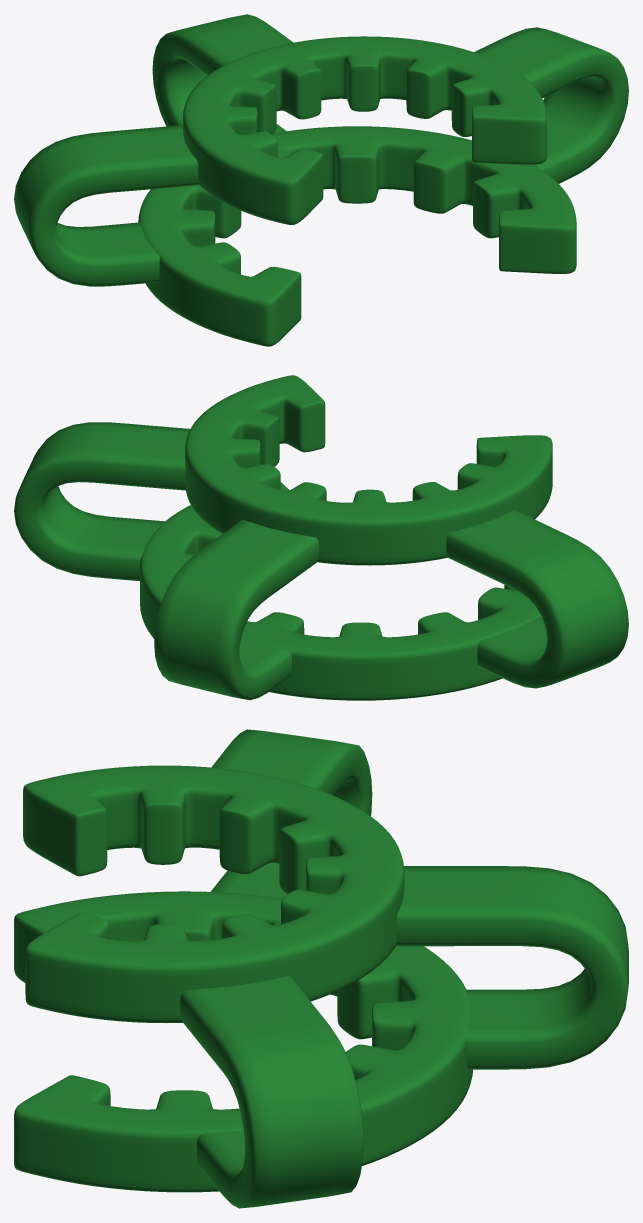
The model's file is keck clip.gltf.
The picture shows the model from 3 angles, top to bottom: view 1: azimuth 30°, elevation 25°; view 2: azimuth 150°, elevation 25°; view 3: azimuth 270°, elevation 25°; orthographic projection. The views are drawn at different scales.
Visible parts, largest first — view 1: big ring, small ring, belt.002, belt.001, belt; view 2: small ring, big ring, belt.002, belt, belt.001; view 3: small ring, big ring, belt, belt.001, belt.002.
Boxes of the visible parts, <box> form: big ring: <box>138,126,576,346</box>; small ring: <box>183,36,546,224</box>; belt.002: <box>14,125,198,286</box>; belt.001: <box>474,27,628,183</box>; belt: <box>152,14,293,133</box>; small ring: <box>185,375,552,565</box>; big ring: <box>140,482,541,700</box>; belt.002: <box>446,510,628,688</box>; belt: <box>154,519,318,700</box>; belt.001: <box>14,422,190,581</box>; small ring: <box>23,765,404,1023</box>; big ring: <box>14,891,472,1192</box>; belt: <box>396,866,628,1069</box>; belt.001: <box>180,976,363,1208</box>; belt.002: <box>211,729,372,898</box>.
Bounding box in the file's own units: 2.4 × 0.6142 × 1.63.
